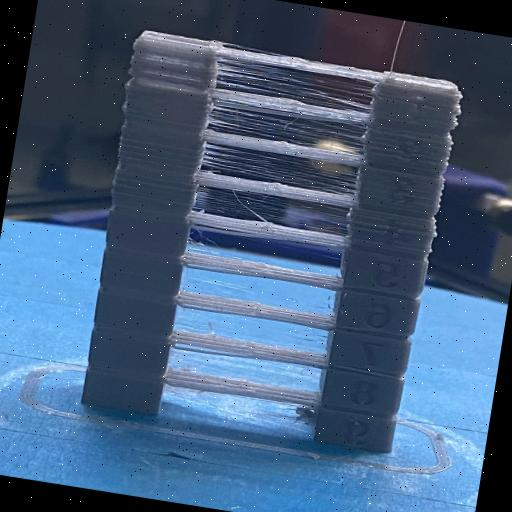stringing: (214, 50, 374, 114), (198, 144, 354, 204), (209, 98, 361, 158), (194, 190, 342, 240)
